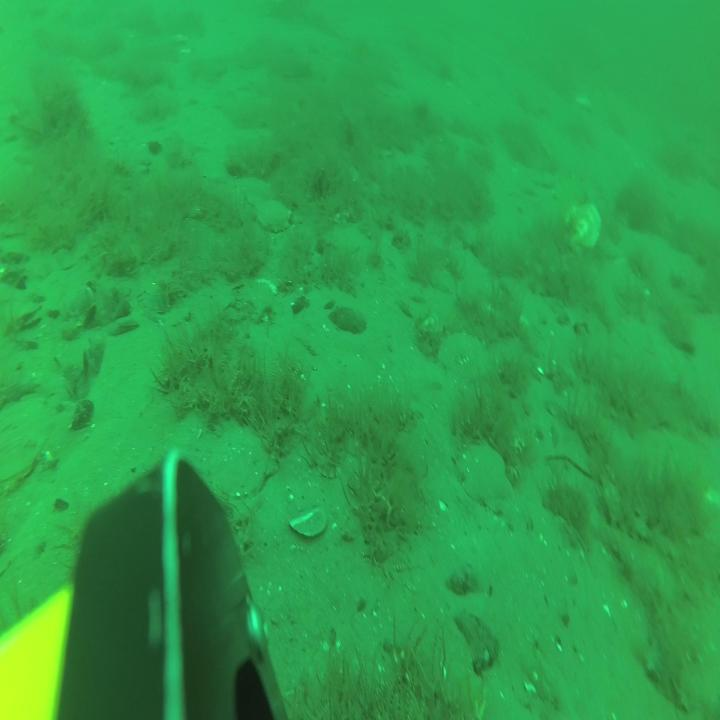scallop: (211, 425, 277, 495), (456, 442, 511, 501), (566, 204, 598, 252), (256, 197, 290, 230), (575, 94, 591, 109)
